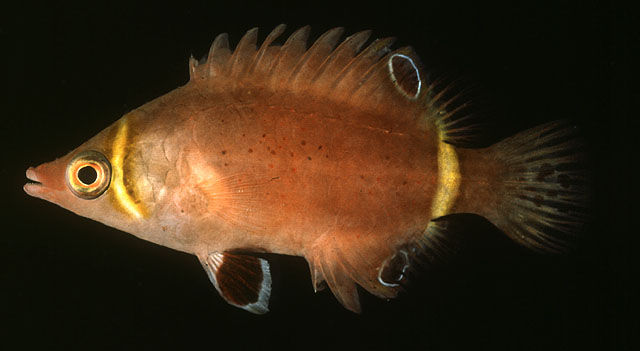fish: (23, 23, 574, 315)
